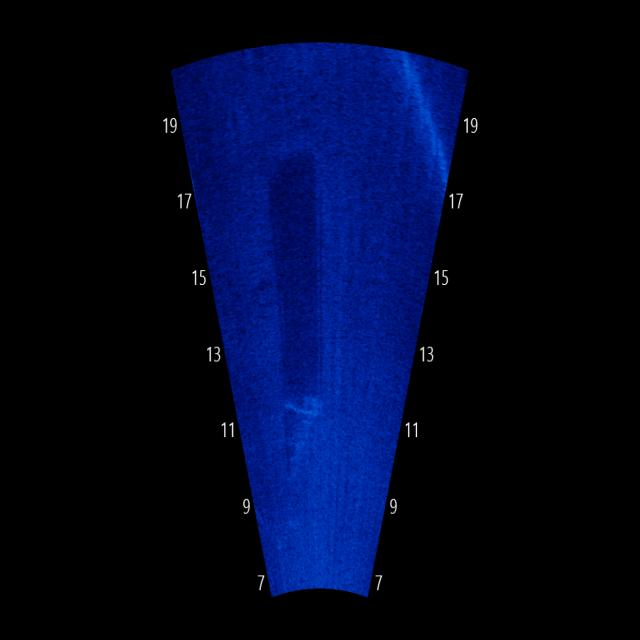circle: (246, 270, 283, 314)
triangle: (276, 392, 323, 484)
